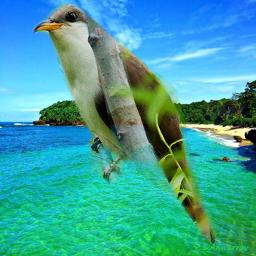Cuckoo: (27, 4, 228, 245)
